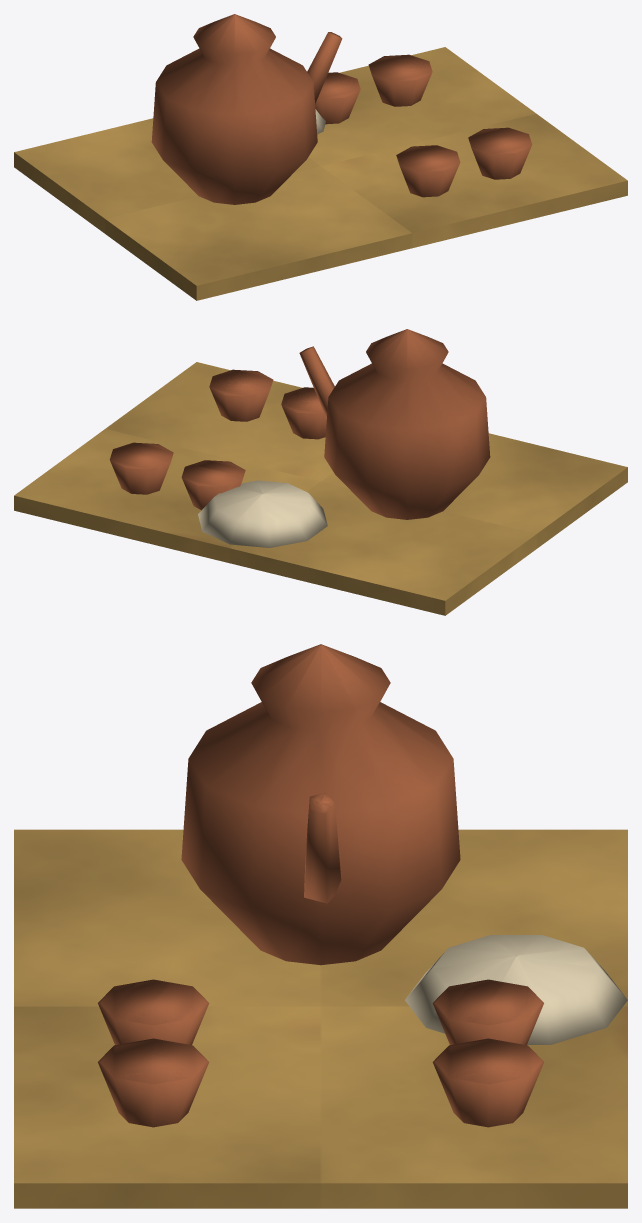
File: TeaSet_1.gltf
The picture shows the model from 3 angles, top to bottom: view 1: azimuth 30°, elevation 25°; view 2: azimuth 150°, elevation 25°; view 3: azimuth 270°, elevation 25°; orthographic projection. The views are drawn at different scales.
Parts seen in each view (by area): view 1: TeaSet_1; view 2: TeaSet_1; view 3: TeaSet_1.
Boxes of the visible parts, x1,y1,x2,y2 form: TeaSet_1: (14, 14, 627, 300); TeaSet_1: (14, 329, 627, 615); TeaSet_1: (14, 644, 627, 1208).
Size of the model in its own units: 0.6 by 0.25 by 0.44.
3 materials, 3 textured.
